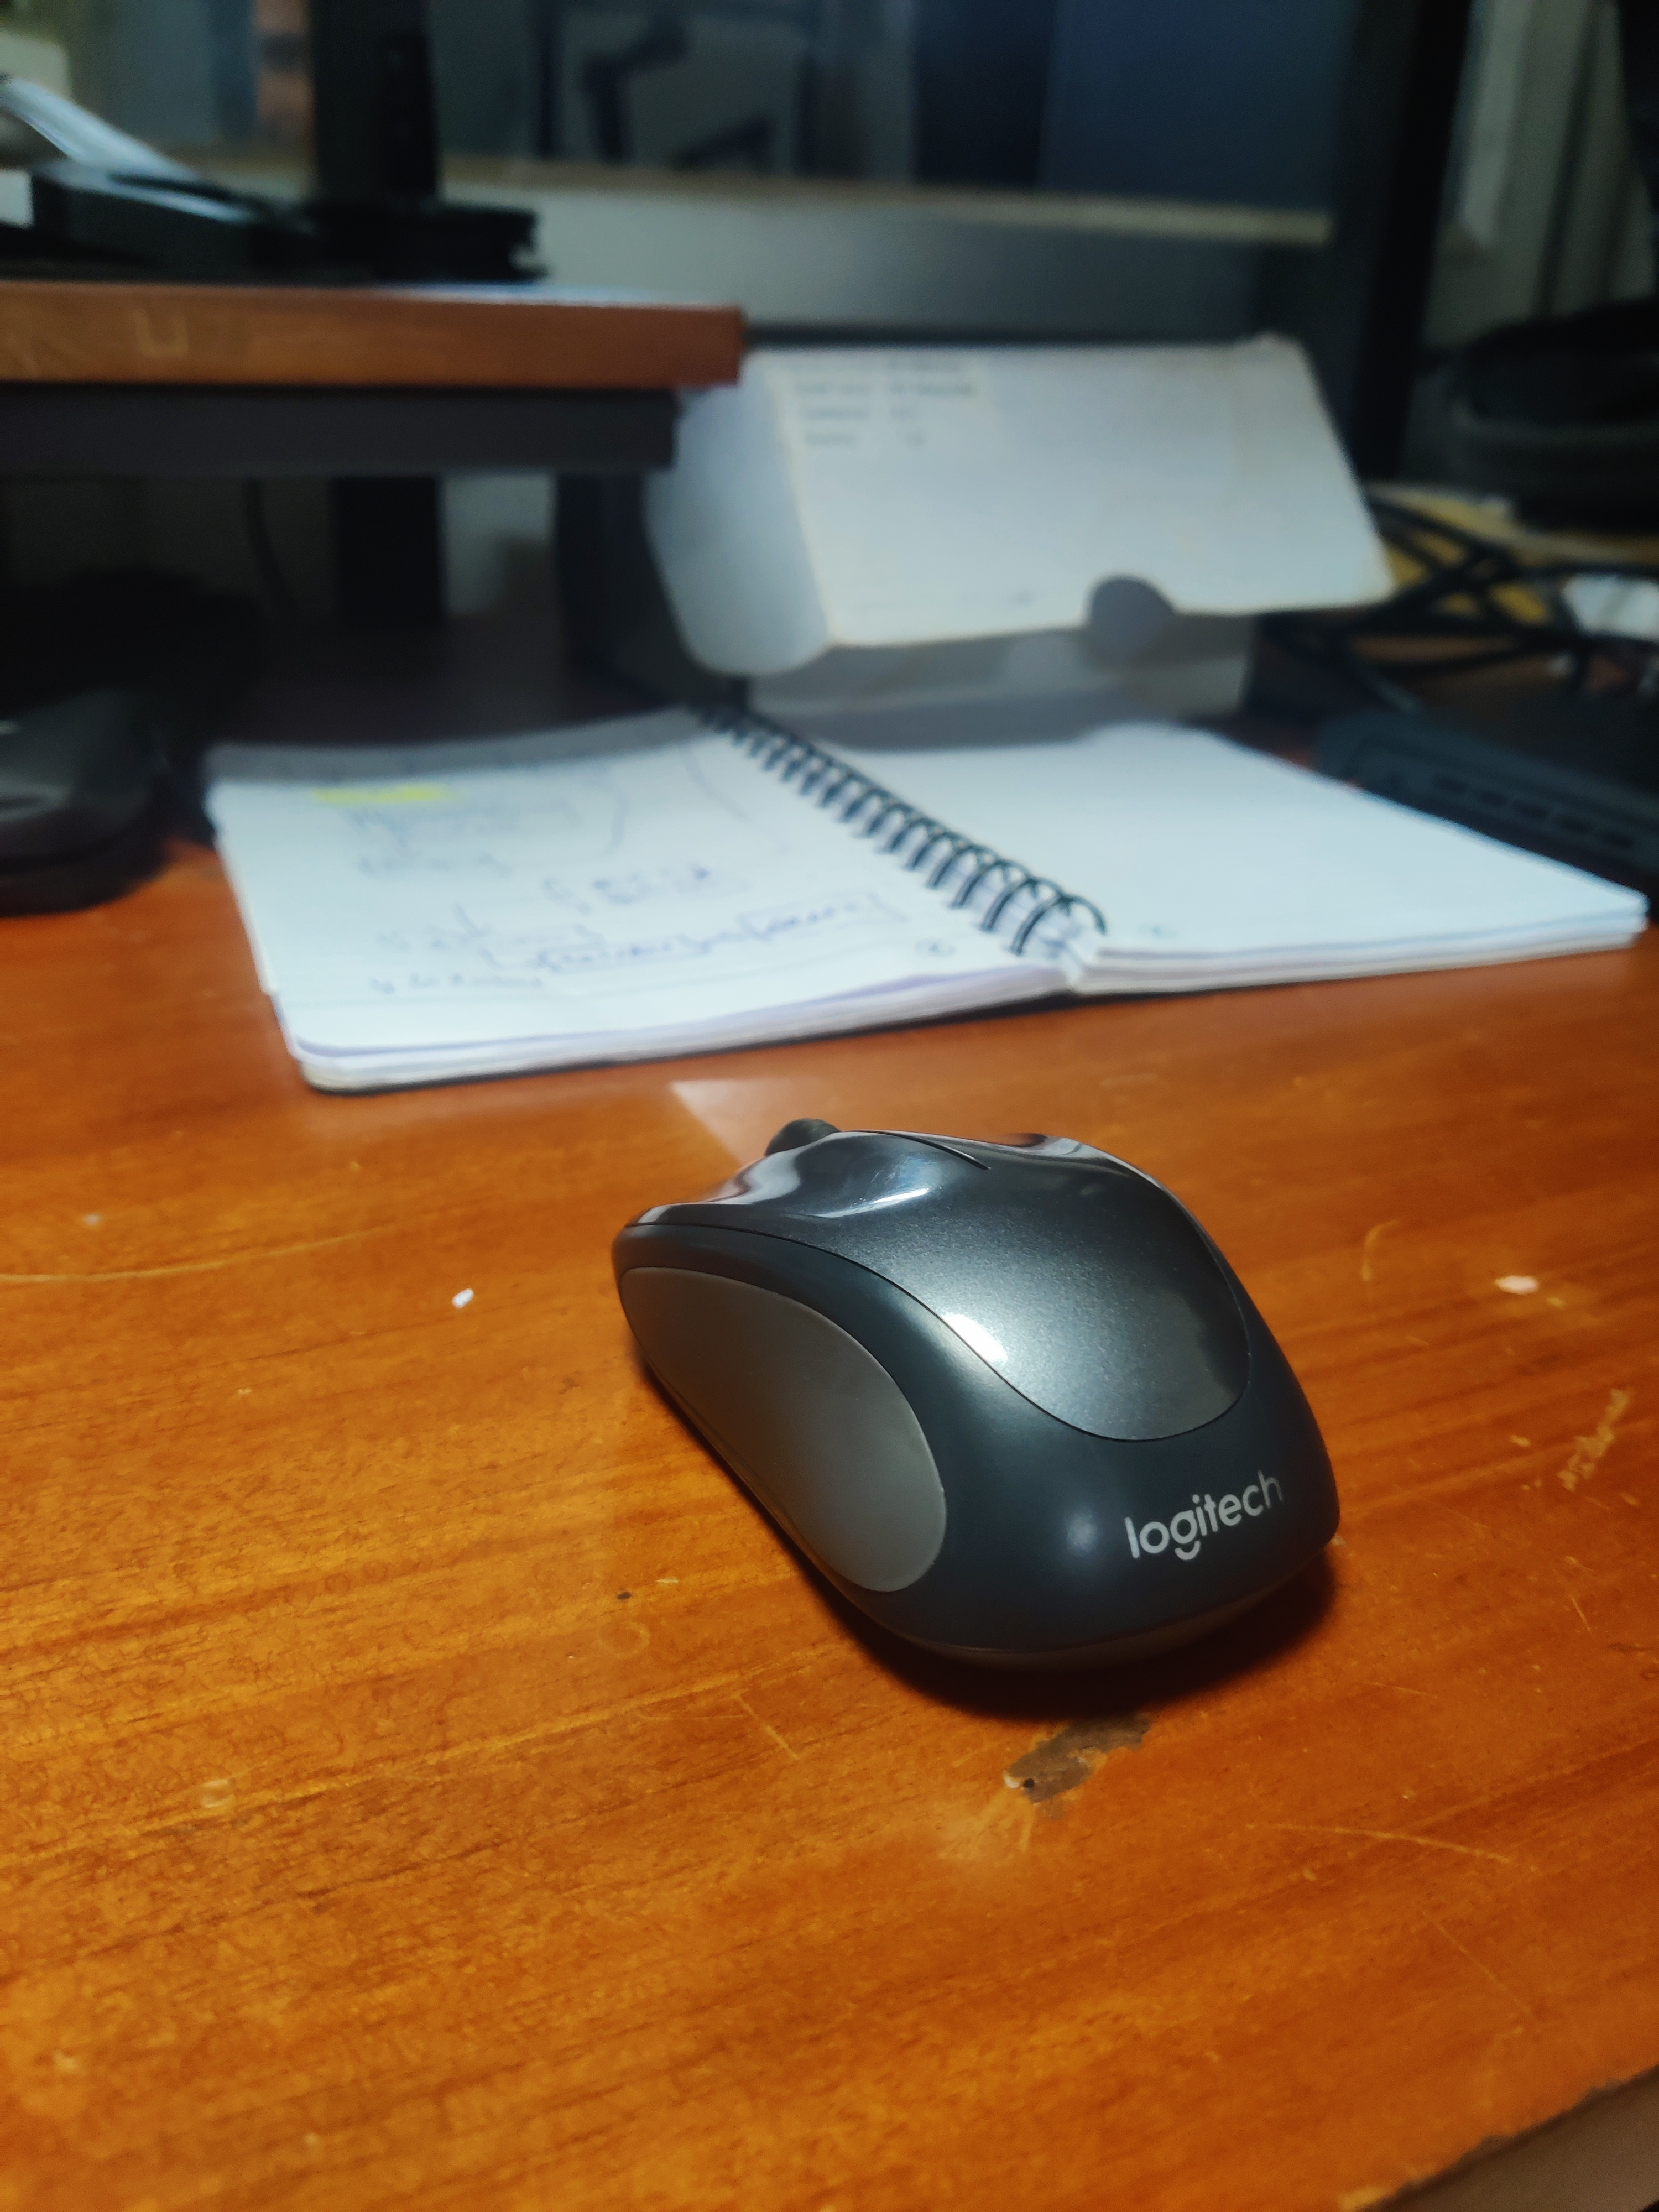logitechMouse: (596, 1104, 1358, 1737)
